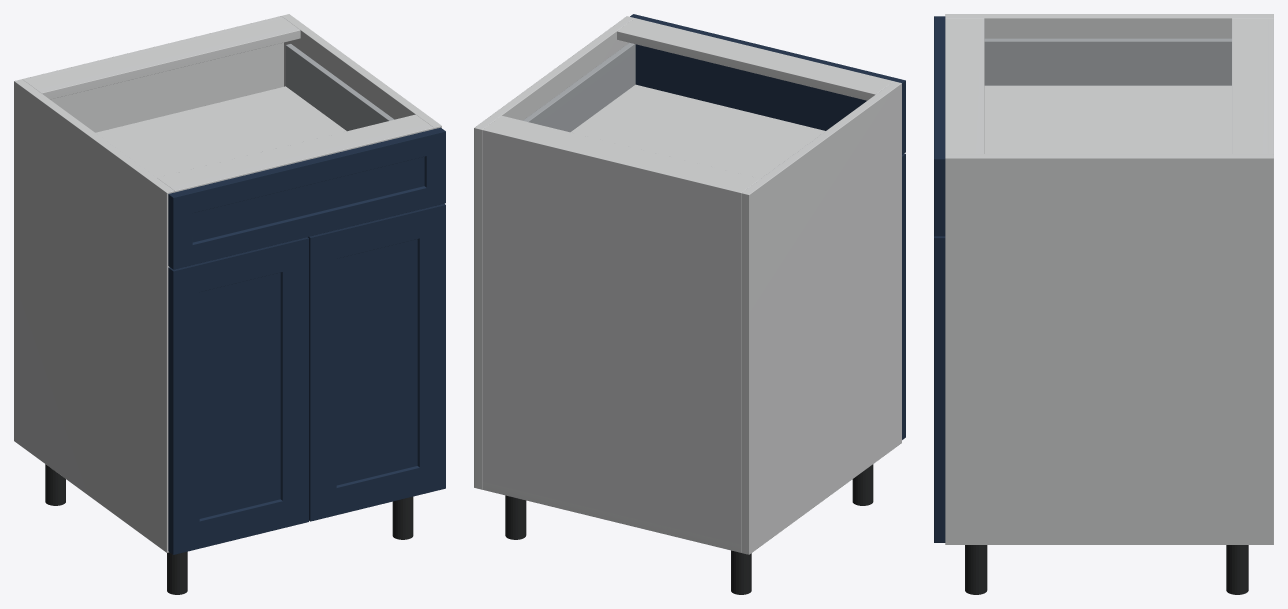
The model's file is oppein-pb-bss-b24.glb.
3 views of the same model, side by side, from view 1: azimuth 30°, elevation 25°; view 2: azimuth 150°, elevation 25°; view 3: azimuth 270°, elevation 25° (orthographic). The views are drawn at different scales.
Parts seen in each view (by area): view 1: Cabinet side, Door, Door.001, Drawer front, Drawer floor, Cabinet back, Top support rail, Top support rail.001, Drawer side.001, Cabinet side.001, Adjustable foot.003, Adjustable foot.001 (+1 smaller); view 2: Cabinet back, Cabinet side, Drawer floor, Drawer front, Top support rail.001, Cabinet side.001, Top support rail, Drawer side.001, Cabinet bottom, Door, Adjustable foot.002, Adjustable foot (+1 smaller); view 3: Cabinet side.001, Drawer floor, Drawer side, Cabinet side, Top support rail.001, Top support rail, Door.001, Drawer front, Adjustable foot.002, Adjustable foot.003, Cabinet back.
Boxes of the visible parts, x1=… form: Cabinet side: x1=14, y1=79, x2=174, y2=552; Door: x1=168, y1=237, x2=308, y2=554; Door.001: x1=307, y1=203, x2=445, y2=521; Drawer front: x1=168, y1=127, x2=445, y2=269; Drawer floor: x1=95, y1=86, x2=346, y2=177; Cabinet back: x1=22, y1=16, x2=283, y2=132; Top support rail: x1=24, y1=18, x2=300, y2=99; Top support rail.001: x1=157, y1=114, x2=433, y2=192; Drawer side.001: x1=285, y1=44, x2=393, y2=131; Cabinet side.001: x1=281, y1=14, x2=441, y2=128; Adjustable foot.003: x1=392, y1=496, x2=413, y2=539; Adjustable foot.001: x1=167, y1=551, x2=187, y2=594; Cabinet back: x1=482, y1=127, x2=743, y2=552; Cabinet side: x1=741, y1=81, x2=901, y2=554; Drawer floor: x1=570, y1=84, x2=825, y2=178; Drawer front: x1=630, y1=14, x2=905, y2=154; Top support rail.001: x1=617, y1=18, x2=893, y2=100; Cabinet side.001: x1=474, y1=16, x2=634, y2=489; Top support rail: x1=486, y1=115, x2=759, y2=191; Drawer side.001: x1=523, y1=43, x2=635, y2=132; Cabinet bottom: x1=482, y1=481, x2=740, y2=552; Door: x1=902, y1=153, x2=905, y2=439; Adjustable foot.002: x1=505, y1=495, x2=526, y2=539; Adjustable foot: x1=731, y1=550, x2=751, y2=594; Cabinet side.001: x1=945, y1=154, x2=1273, y2=544; Drawer floor: x1=984, y1=85, x2=1231, y2=153; Drawer side: x1=984, y1=38, x2=1231, y2=85; Cabinet side: x1=945, y1=14, x2=1273, y2=38; Top support rail.001: x1=945, y1=18, x2=984, y2=153; Top support rail: x1=1232, y1=18, x2=1267, y2=153; Door.001: x1=934, y1=236, x2=945, y2=542; Drawer front: x1=934, y1=16, x2=945, y2=236; Adjustable foot.002: x1=1226, y1=545, x2=1248, y2=594; Adjustable foot.003: x1=965, y1=545, x2=987, y2=594; Cabinet back: x1=1267, y1=18, x2=1273, y2=153.
Size of the model in its own units: 0.6096 by 0.8763 by 0.6064.
